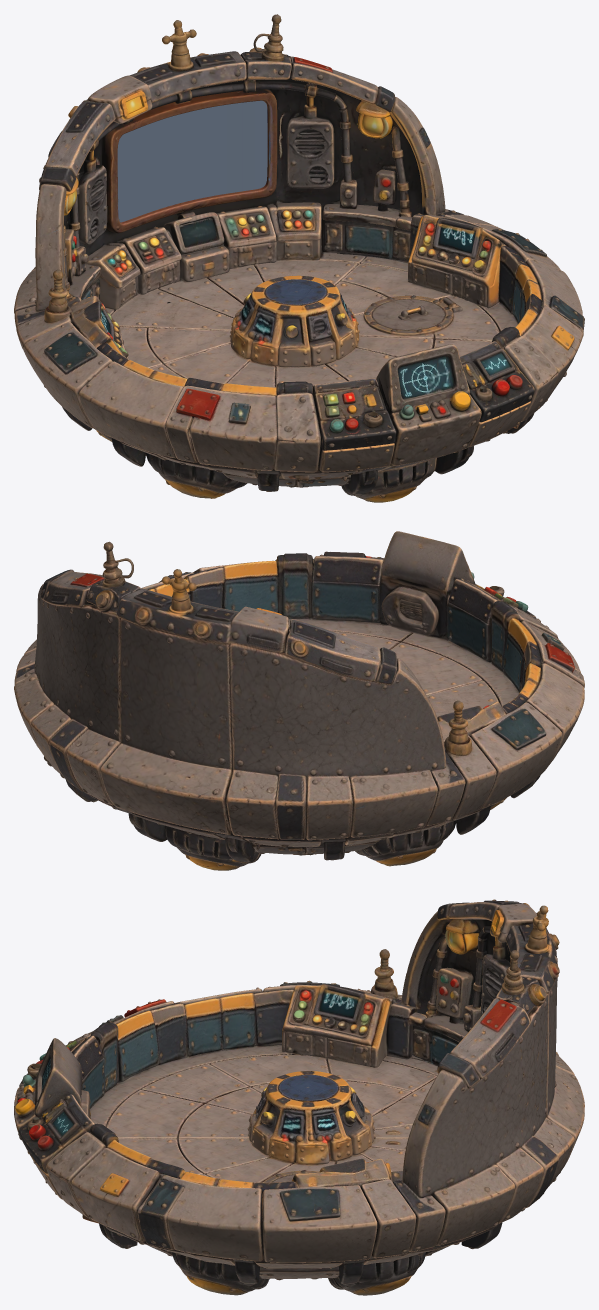
The model's file is kfb-meshy-ufo-cockpit.screen-up179.v1.glb.
3 views of the same model, one above another, from view 1: azimuth 30°, elevation 25°; view 2: azimuth 150°, elevation 25°; view 3: azimuth 270°, elevation 25° (orthographic).
Visible parts, largest first — view 1: ufo_cockpit, kfb_screen_slot; view 2: ufo_cockpit; view 3: ufo_cockpit.
Boxes of the visible parts, x1=… form: ufo_cockpit: x1=14, y1=14, x2=584, y2=502; kfb_screen_slot: x1=117, y1=100, x2=267, y2=222; ufo_cockpit: x1=14, y1=531, x2=584, y2=870; ufo_cockpit: x1=14, y1=899, x2=584, y2=1295.
Size of the model in its own units: 1.88 by 1.28 by 1.9.
2 materials, 1 textured.
